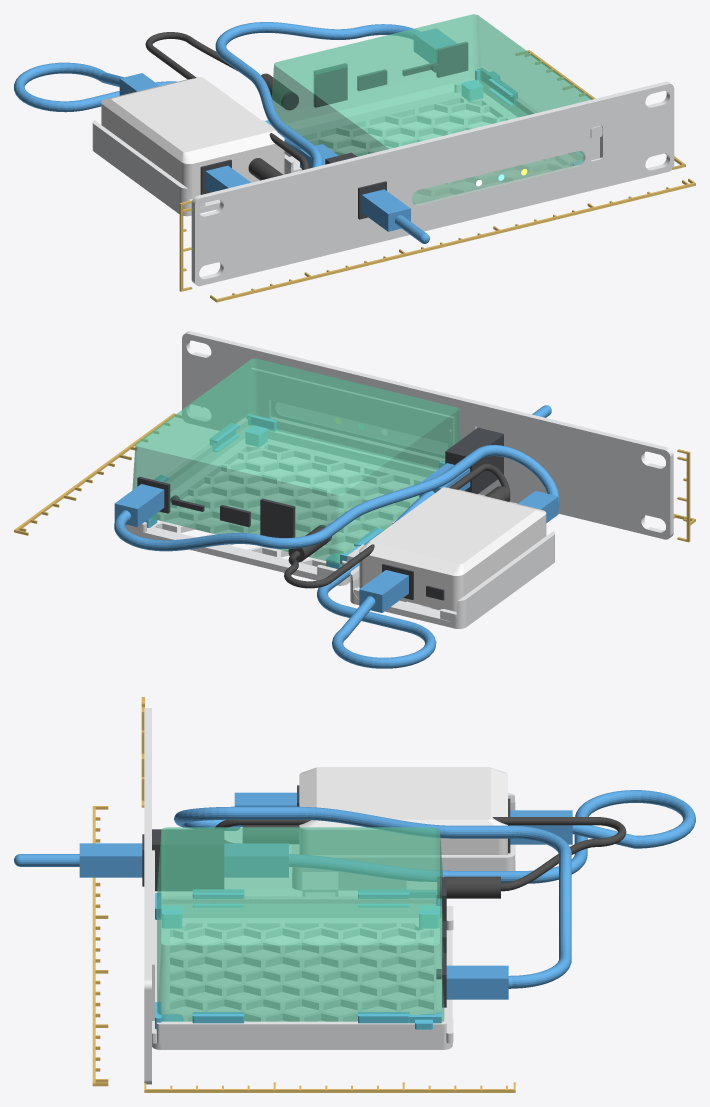
The model's file is home-assistant-green-rack-front_ethernet_right.glb.
3 views of the same model, one above another, from view 1: azimuth 30°, elevation 25°; view 2: azimuth 150°, elevation 25°; view 3: azimuth 270°, elevation 25° (orthographic). The views are drawn at different scales.
Parts seen in each view (by area): view 1: White rack mount, Home Assistant Green, TP-Link TL-PD30G-M2, Green tray — standard, Internal Ethernet cable, Front keystone → TP-Link PoE jumper, 10 mm dimension rulers, Home Assistant Green connector faces, TP-Link cradle side walls, LED window insert, DC cable, Green retention — segmented rails + rear latch (+3 smaller); view 2: Home Assistant Green, White rack mount, Green tray — standard, TP-Link TL-PD30G-M2, Internal Ethernet cable, LED shutter retainer, Front keystone → TP-Link PoE jumper, TP-Link cradle side walls, LED window insert, Home Assistant Green connector faces, DC cable, Green retention — segmented rails + rear latch (+4 smaller); view 3: Home Assistant Green, Green tray — standard, TP-Link TL-PD30G-M2, Front keystone → TP-Link PoE jumper, Internal Ethernet cable, DC cable, Green retention — segmented rails + rear latch, Front keystone coupler, White rack mount, 10 mm dimension rulers, TP-Link cradle side walls, Home Assistant Green connector faces (+1 smaller).
Part boxes in pixels (<box>): White rack mount: <box>191,81,674,286</box>; Home Assistant Green: <box>272,14,591,203</box>; TP-Link TL-PD30G-M2: <box>101,77,284,199</box>; Green tray — standard: <box>284,78,538,156</box>; Internal Ethernet cable: <box>205,22,456,192</box>; Front keystone → TP-Link PoE jumper: <box>14,62,429,243</box>; 10 mm dimension rulers: <box>179,50,695,302</box>; Home Assistant Green connector faces: <box>281,42,468,110</box>; TP-Link cradle side walls: <box>92,120,293,209</box>; LED window insert: <box>412,151,585,205</box>; DC cable: <box>145,32,309,180</box>; Green retention — segmented rails + rear latch: <box>265,68,582,165</box>; Home Assistant Green: <box>132,358,460,563</box>; White rack mount: <box>182,331,673,561</box>; Green tray — standard: <box>125,418,436,585</box>; TP-Link TL-PD30G-M2: <box>359,487,546,611</box>; Internal Ethernet cable: <box>114,445,559,551</box>; LED shutter retainer: <box>251,368,454,462</box>; Front keystone → TP-Link PoE jumper: <box>317,405,551,668</box>; TP-Link cradle side walls: <box>350,531,554,622</box>; LED window insert: <box>271,401,447,457</box>; Home Assistant Green connector faces: <box>137,476,331,541</box>; DC cable: <box>284,463,510,588</box>; Green retention — segmented rails + rear latch: <box>145,414,445,568</box>; Home Assistant Green: <box>157,827,444,1021</box>; Green tray — standard: <box>152,896,453,1049</box>; TP-Link TL-PD30G-M2: <box>299,767,507,854</box>; Front keystone → TP-Link PoE jumper: <box>14,790,695,883</box>; Internal Ethernet cable: <box>174,792,571,999</box>; DC cable: <box>214,817,626,898</box>; Green retention — segmented rails + rear latch: <box>155,889,441,1029</box>; Front keystone coupler: <box>142,829,223,891</box>; White rack mount: <box>144,708,436,1084</box>; 10 mm dimension rulers: <box>92,697,515,1092</box>; TP-Link cradle side walls: <box>292,792,515,883</box>; Home Assistant Green connector faces: <box>436,876,446,1007</box>.
Size of what is drawn, in the model's own units: 268 by 44.45 by 264.
